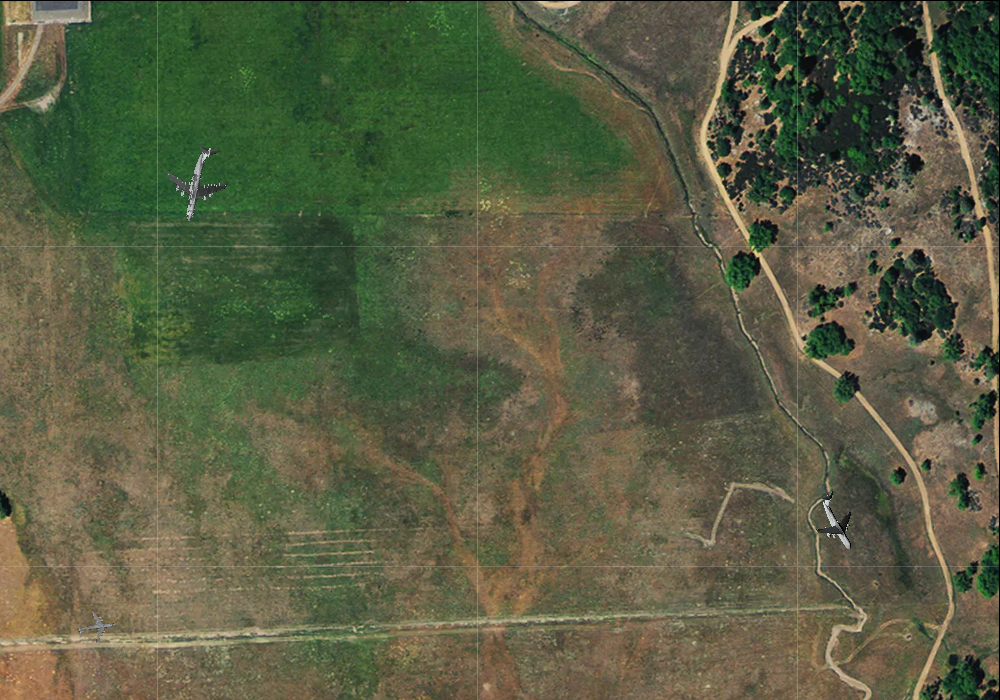plane: (155, 138, 241, 228), (800, 482, 876, 561), (75, 608, 117, 648)
